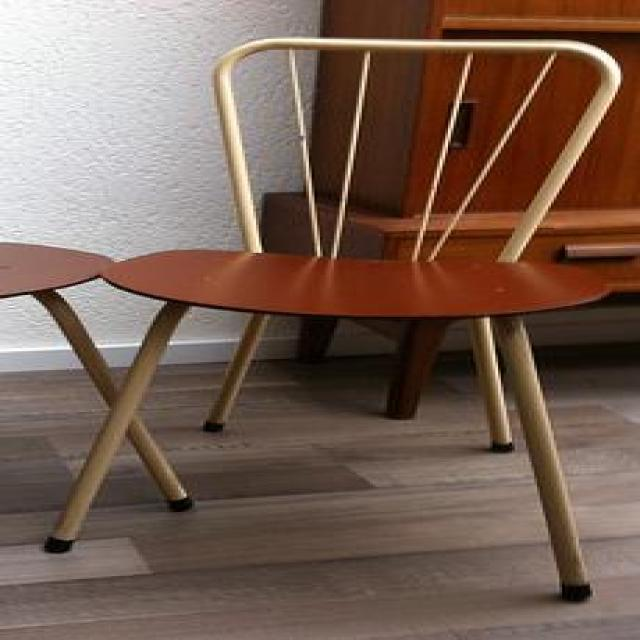chair: (39, 34, 626, 603)
